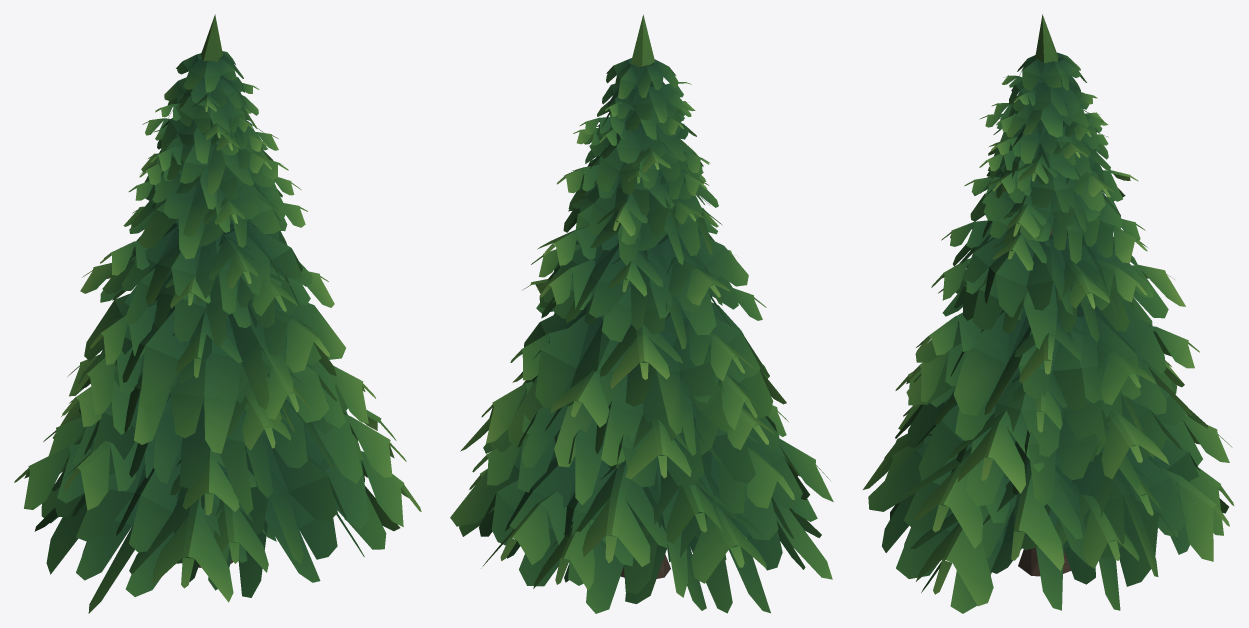
Rendered from spruce_L_wide_std_s3.glb.
3 renders of one model, left to right at view 1: azimuth 30°, elevation 25°; view 2: azimuth 150°, elevation 25°; view 3: azimuth 270°, elevation 25°, orthographic.
Visible parts, largest first — view 1: Tree; view 2: Tree; view 3: Tree.
Part boxes in pixels (x1,y1,x2,y2): Tree: (14, 14, 421, 613); Tree: (450, 14, 833, 613); Tree: (863, 14, 1234, 613).
Size of what is drawn, in the model's own units: 5.01 by 7.96 by 4.85.
